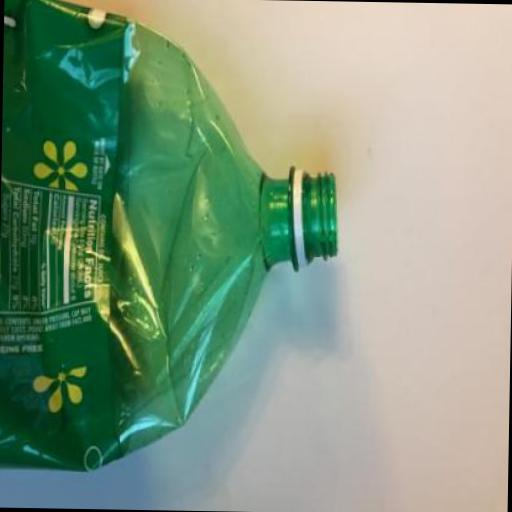plastic: (0, 0, 343, 478), (0, 0, 134, 469)
